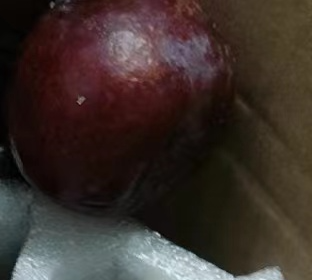plum_B: (7, 1, 236, 221)
